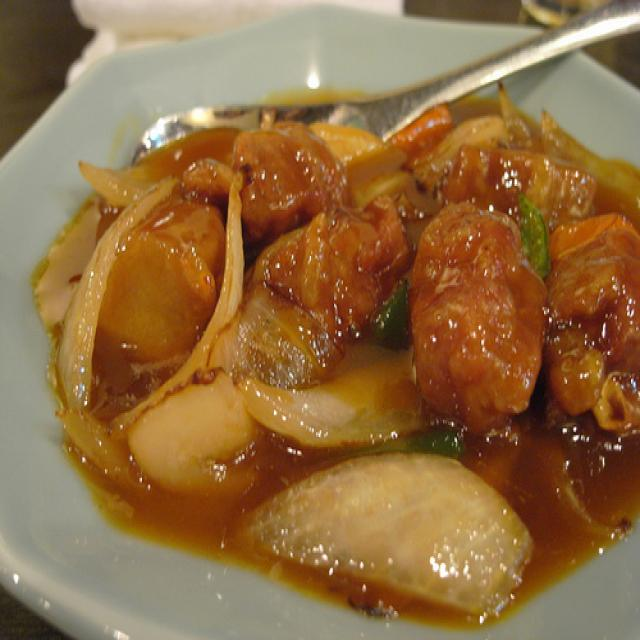猪肉菜式: (33, 80, 640, 635)
